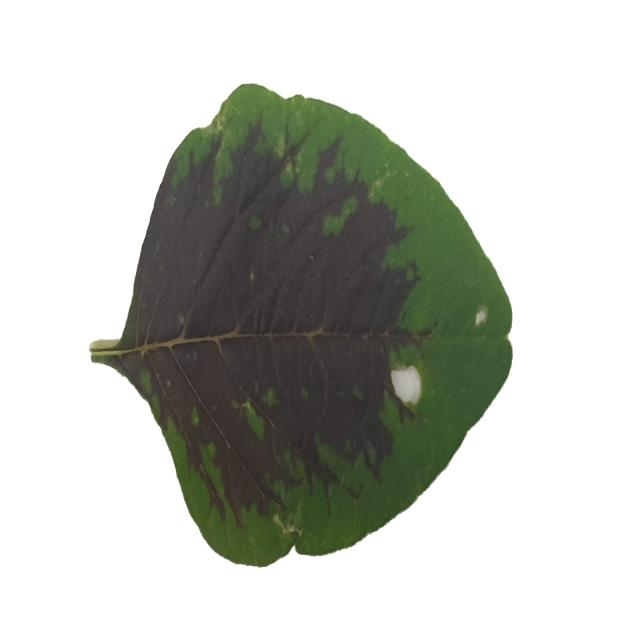Medicinal-Arive Dantu: (86, 79, 514, 565)
